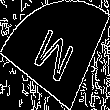M_SW: (30, 21, 80, 89)
